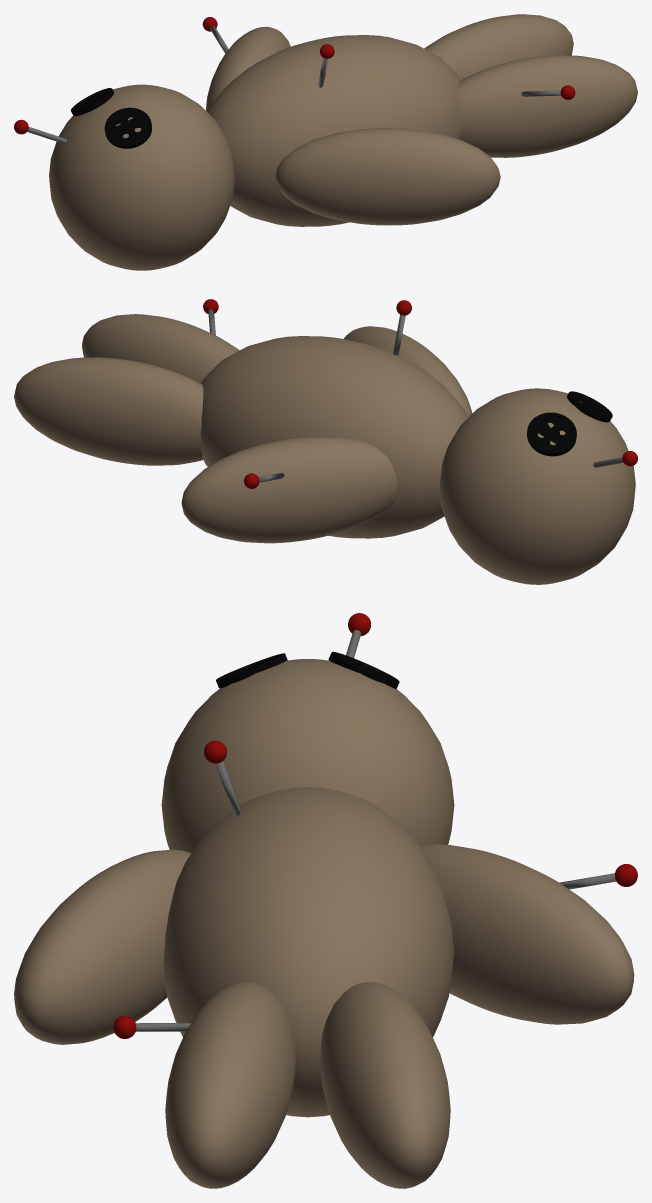
Rendered from Voodoo.fbx.
3 views of the same model, one above another, from view 1: azimuth 30°, elevation 25°; view 2: azimuth 150°, elevation 25°; view 3: azimuth 270°, elevation 25° (orthographic). The views are drawn at different scales.
Visible parts, largest first — view 1: Body, Eyes, Needles, Needle Heads; view 2: Body, Eyes, Needle Heads, Needles; view 3: Body, Needles, Eyes, Needle Heads.
Boxes of the visible parts, x1,y1,x2,y2 form: Body: (49,14,637,270); Eyes: (70,88,151,148); Needles: (27,26,560,143); Needle Heads: (14,17,575,134); Body: (14,314,635,584); Eyes: (527,391,612,456); Needle Heads: (203,299,637,488); Needles: (208,309,623,482); Body: (14,659,634,1188); Needles: (136,630,616,1031); Eyes: (216,651,399,688); Needle Heads: (113,613,637,1038).
Bounding box in the file's own units: 406 × 136 × 244.
